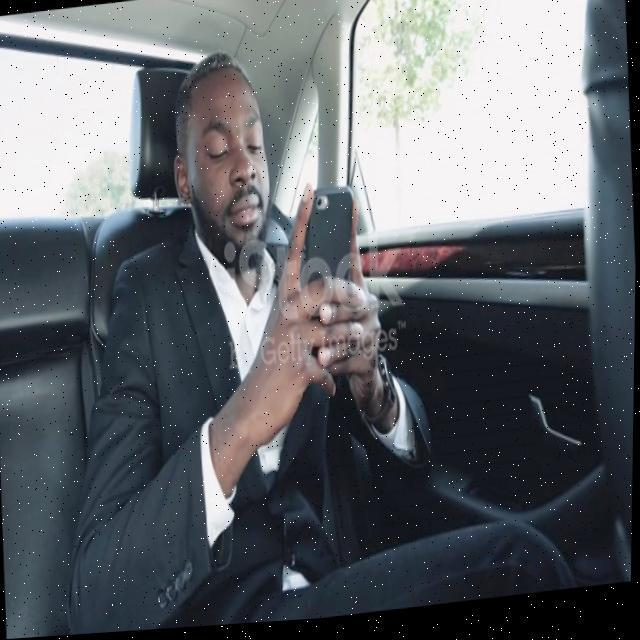PhoneCall: (299, 184, 361, 326)
